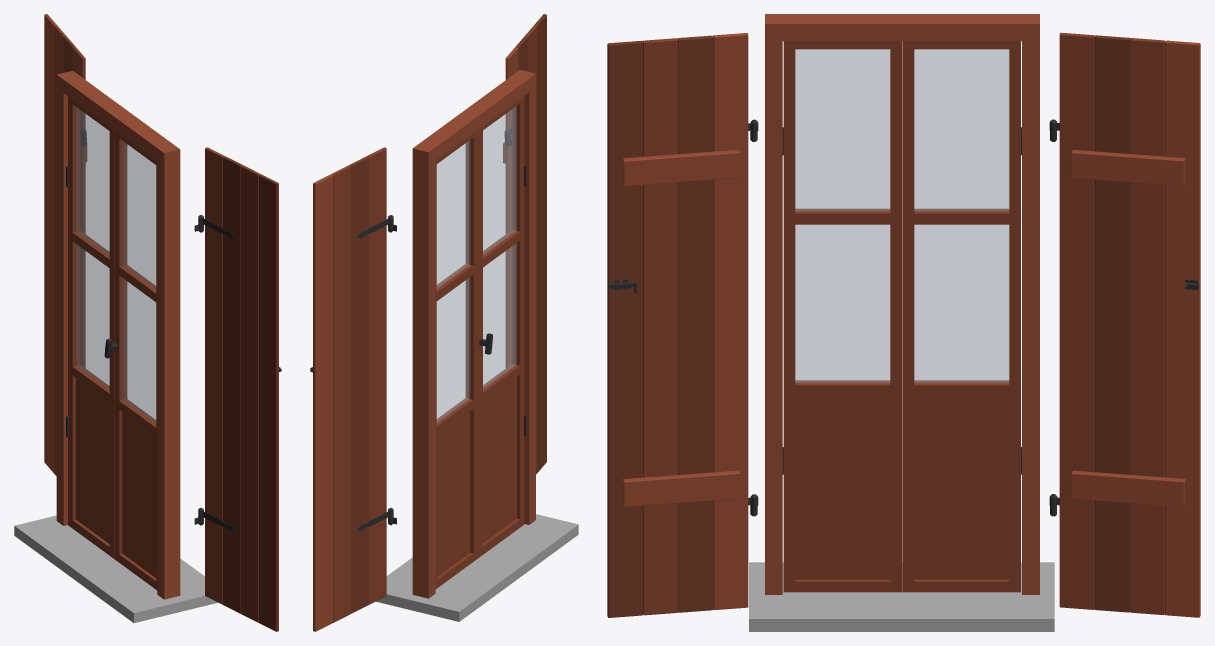
Rendered from French window.fbx.
3 views of the same model, side by side, from view 1: azimuth 30°, elevation 25°; view 2: azimuth 150°, elevation 25°; view 3: azimuth 270°, elevation 25° (orthographic). The views are drawn at different scales.
Visible parts, largest first — view 1: rotazione_anta_dx_1, Anta_sx, Anta_dx, Cornice, rotazione_anta_sx_1, scalino; view 2: rotazione_anta_sx_1, Anta_dx, Cornice, Anta_sx, scalino, rotazione_anta_dx_1; view 3: rotazione_anta_sx_1, rotazione_anta_dx_1, Anta_dx, Anta_sx, Cornice, scalino.
Part boxes in pixels (x1,y1,x2,y2): rotazione_anta_dx_1: (198,147,281,631); Anta_sx: (66,96,114,558); Anta_dx: (104,131,157,590); Cornice: (56,70,180,599); rotazione_anta_sx_1: (44,14,87,475); scalino: (14,515,217,623); rotazione_anta_sx_1: (310,147,393,631); Anta_dx: (478,96,526,557); Cornice: (412,70,535,598); Anta_sx: (435,130,478,588); scalino: (376,514,578,621); rotazione_anta_dx_1: (503,14,546,474); rotazione_anta_sx_1: (1049,32,1200,617); rotazione_anta_dx_1: (607,33,758,617); Anta_dx: (782,41,902,592); Anta_sx: (902,41,1021,592); Cornice: (765,14,1039,594); scalino: (749,562,1054,631).
Bounding box in the file's own units: 43.57 × 205 × 188.
